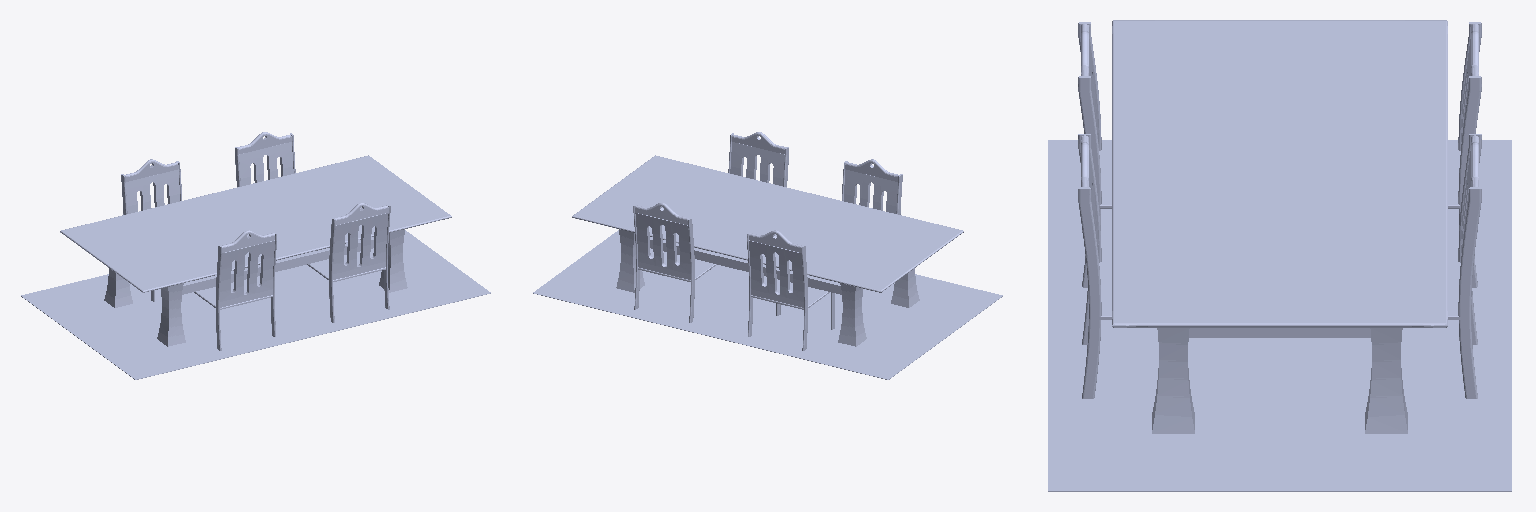
URDF robot description (dining_table_set):
<robot
  name="dining_table_set">
  <link
    name="dining_table_set">
    <inertial>
      <origin
        xyz="-0.00056834 0.000327389999999995 -0.087786"
        rpy="0 0 0" />
      <mass
        value="38.196" />
      <inertia
        ixx="2.77805917287179"
        ixy="-0.00378677371264622"
        ixz="0.00308720464519527"
        iyy="6.88441584523427"
        iyz="0.00177839598726867"
        izz="8.66696394041689" />
    </inertial>
    <visual>
      <origin
        xyz="0 0 0"
        rpy="0 0 0" />
      <geometry>
        <mesh
          filename="package://dining_table_set/meshes/dining_table_set.dae" />
      </geometry>
      <material
        name="">
        <color
          rgba="0.79216 0.81961 0.93333 1" />
      </material>
    </visual>
    <collision>
      <origin
        xyz="0 0 0"
        rpy="0 0 0" />
      <geometry>
        <mesh
          filename="package://dining_table_set/meshes/dining_table_set.dae" />
      </geometry>
    </collision>
  </link>
</robot>

--- What the picture shows (computed from the rendered views, not written in the file) ---
Views: 3 orthographic renders of the robot side by side, from view 1: azimuth 30°, elevation 25°; view 2: azimuth 150°, elevation 25°; view 3: azimuth 270°, elevation 25°.
Model dining_table_set with 1 links and 0 joints (none), rooted at dining_table_set, posed every joint at zero.
Visible links, largest first — view 1: dining_table_set; view 2: dining_table_set; view 3: dining_table_set.
Link boxes in pixels (x1=…): dining_table_set: x1=21, y1=132, x2=490, y2=379; dining_table_set: x1=533, y1=132, x2=1002, y2=379; dining_table_set: x1=1048, y1=20, x2=1511, y2=491.
Size in the robot's own frame: 1.73 by 0.9668 by 0.5258 metres.
Meshes: 1 distinct files referenced, 1 mesh visuals loaded (1 Collada DAE).